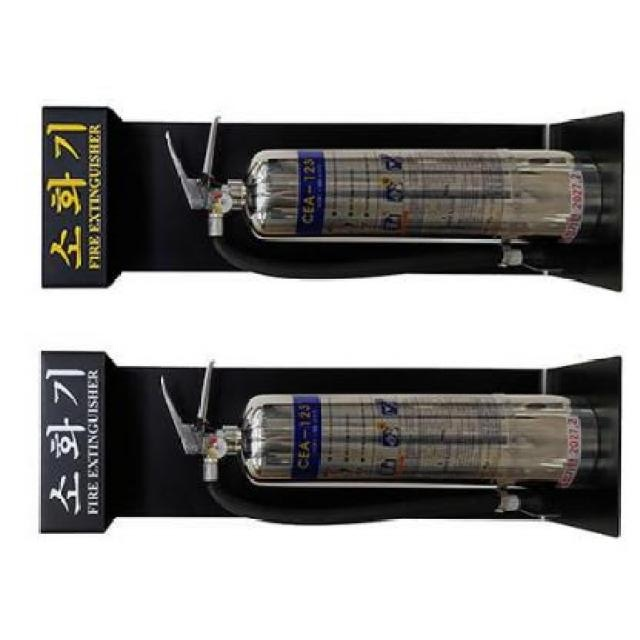fire extinguisher: (160, 361, 598, 527), (163, 115, 600, 281)
